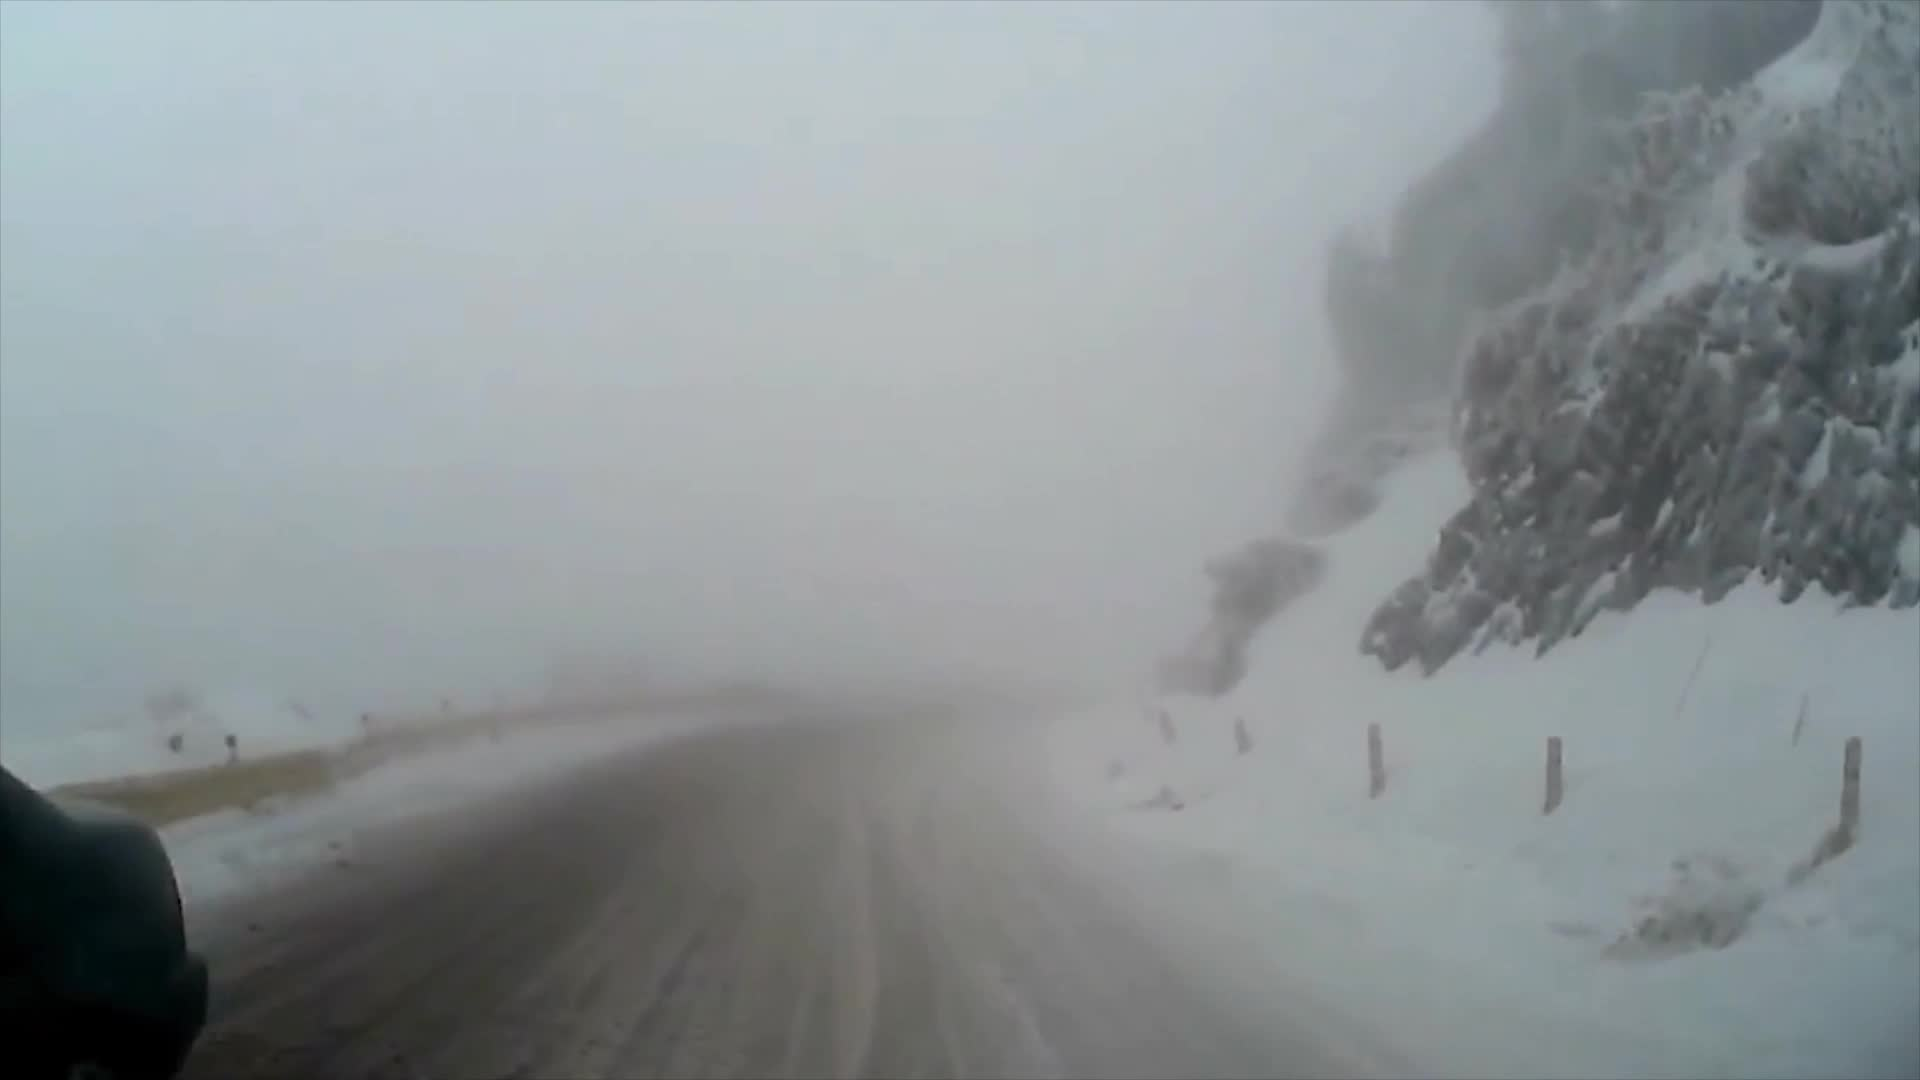vehicle: (0, 756, 208, 1077)
